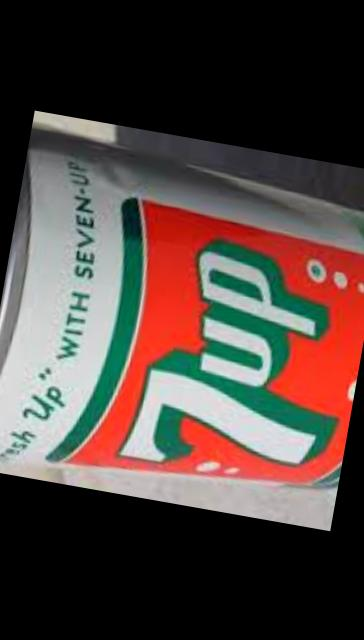metal: (0, 131, 364, 489)
